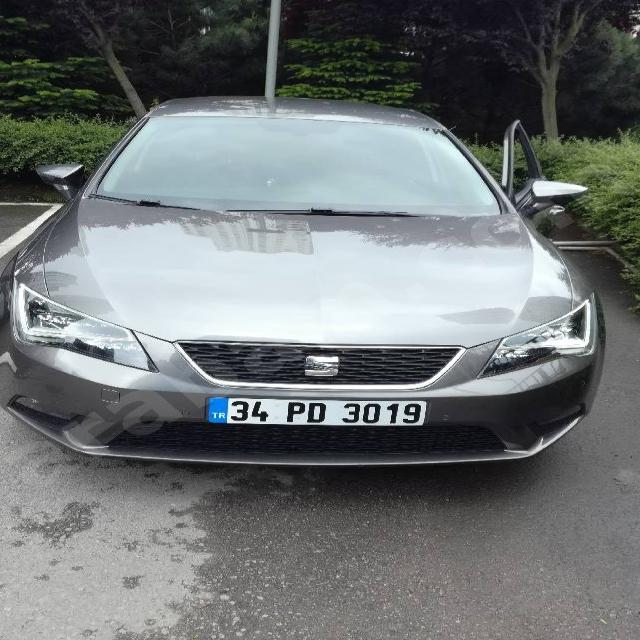license_plate: (206, 397, 426, 426)
